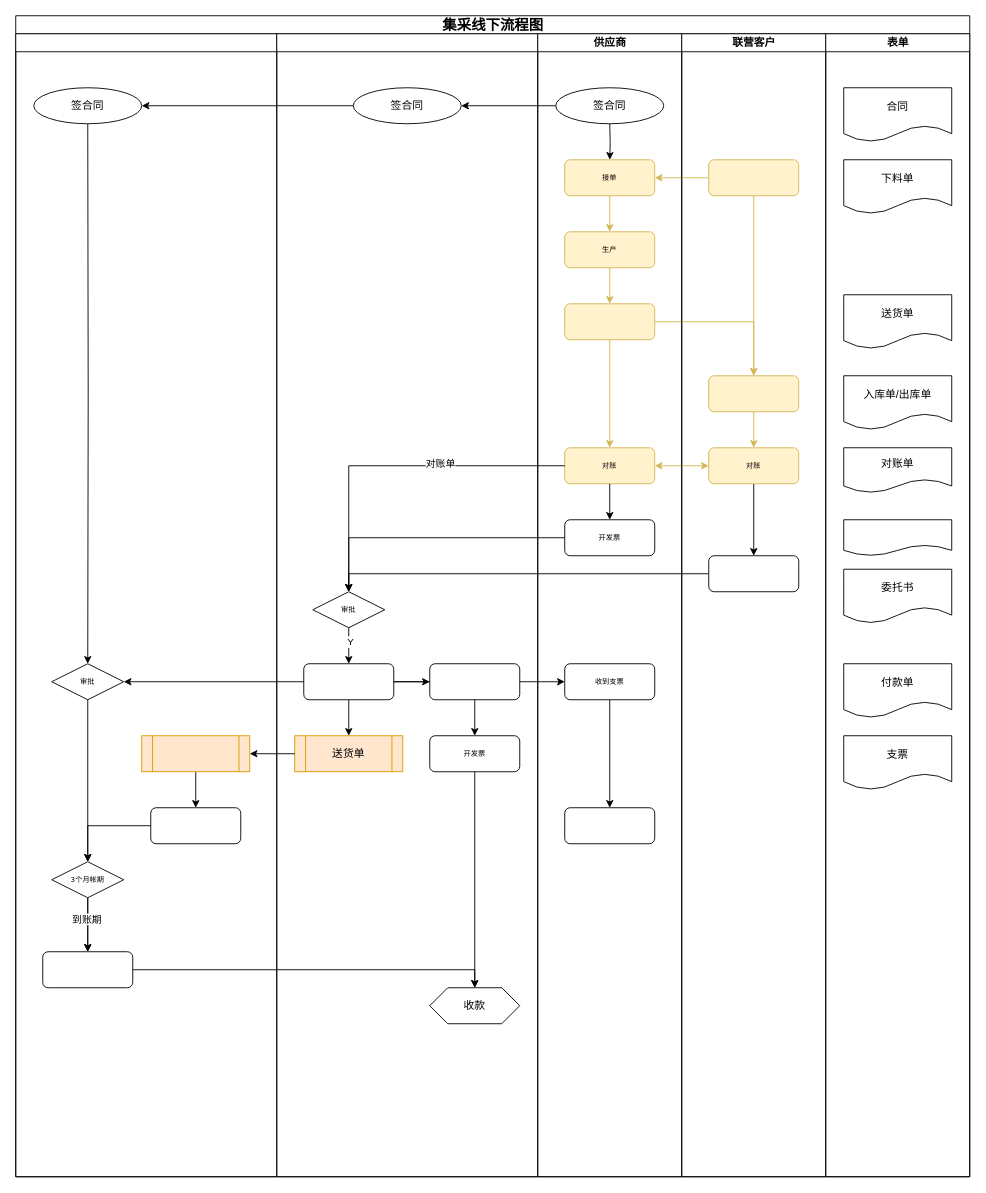
This 986x1193 diagram has some shape labels left out. Here are the shapes that lost their labels. From the top down, the box of each, then its label:
(708, 159, 799, 196): 下料
(564, 303, 655, 340): 送货
(708, 375, 799, 412): 收货
(843, 519, 952, 556): 发票
(708, 555, 799, 592): 付款委托
(15, 33, 277, 1177): 博大
(276, 33, 538, 1177): 甲己平台
(303, 663, 394, 700): 申请付款
(429, 663, 520, 700): 开支票 3 个月期限
(141, 735, 250, 772): 出库/入库
(150, 807, 241, 844): 财务收单
(564, 807, 655, 844): 供应商提现
(42, 951, 133, 988): 付款
